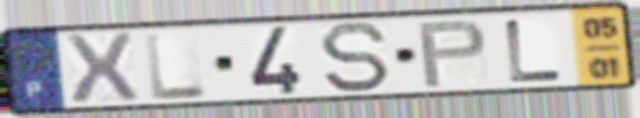4: (245, 24, 305, 98)
L: (141, 30, 211, 103), (502, 17, 567, 85)
P: (414, 17, 491, 90)
S: (315, 20, 393, 95)
X: (60, 31, 143, 108)
